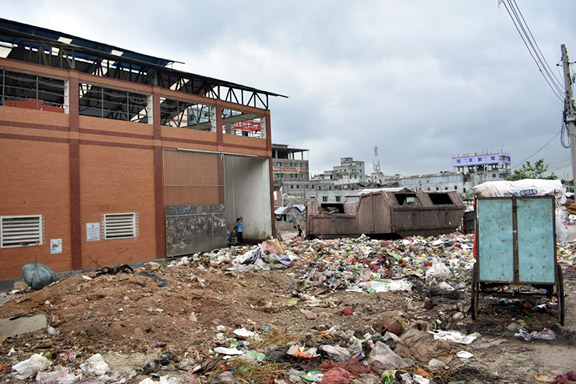garbagevan: (469, 195, 568, 325)
